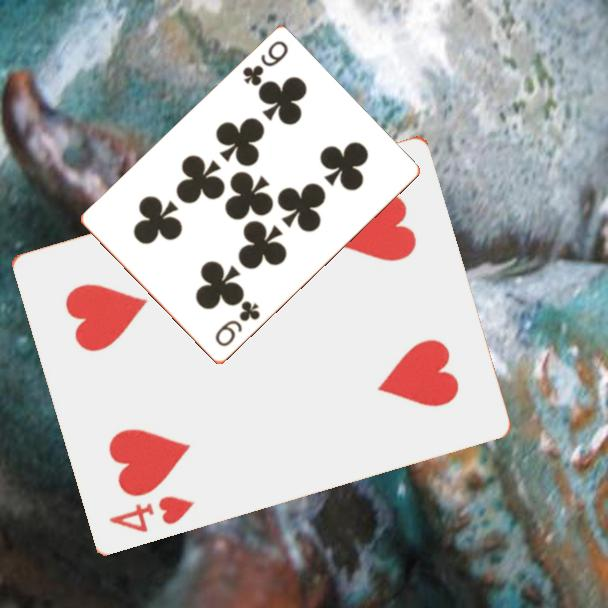c09: (211, 297, 263, 350), (239, 37, 291, 89)
h04: (106, 491, 198, 535)
